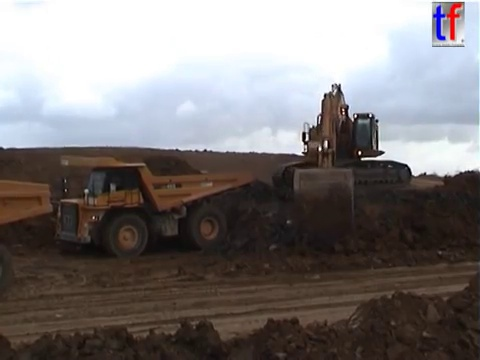excavator: (268, 80, 414, 238)
truck: (53, 152, 256, 259), (1, 175, 55, 297)
